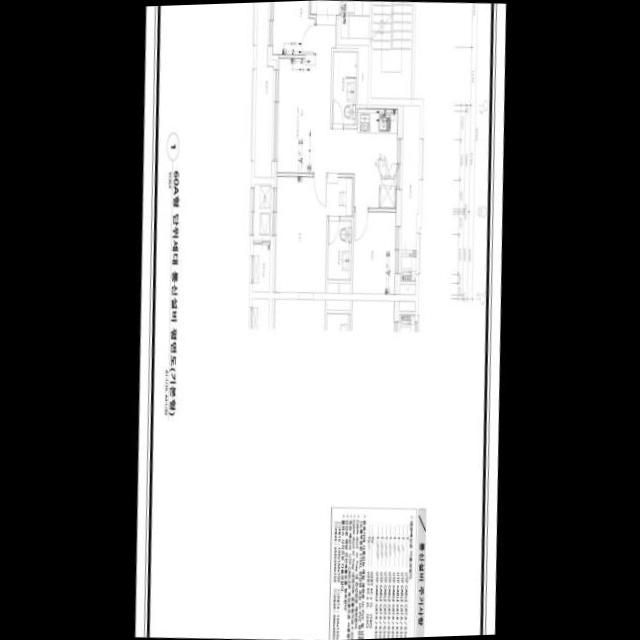background: (134, 0, 506, 640)
space_balconi: (398, 105, 419, 281), (254, 2, 274, 177), (253, 184, 272, 240)
space_bedroom: (272, 176, 352, 292), (352, 211, 398, 294), (270, 0, 314, 59)
space_elevator_hall: (340, 0, 369, 38)
space_front: (310, 0, 339, 25)
space_kitchen: (353, 105, 399, 212)
space_living_room: (276, 24, 355, 174)
space_other: (337, 44, 368, 105), (326, 282, 350, 293), (326, 300, 350, 310), (399, 284, 415, 294), (399, 301, 414, 311)
space_outdoor_room: (252, 244, 270, 291)
space_staircase: (370, 1, 411, 98)
space_toilet: (331, 51, 356, 125), (327, 219, 351, 279)
